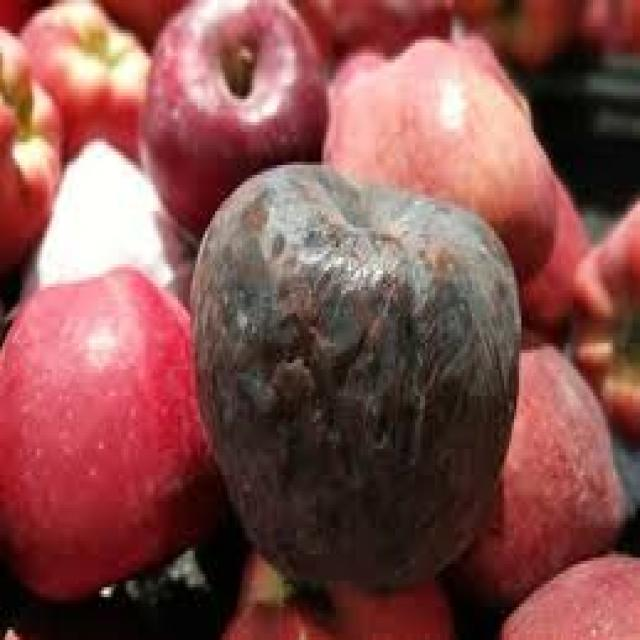organic waste: (188, 158, 516, 590), (0, 263, 222, 587), (321, 33, 551, 280), (438, 326, 626, 604), (136, 0, 329, 228), (470, 30, 590, 336), (208, 541, 450, 637), (17, 0, 150, 158), (0, 20, 59, 284), (494, 548, 638, 636), (294, 0, 449, 49), (457, 0, 573, 53), (571, 0, 637, 56), (101, 0, 180, 36), (0, 0, 42, 26)
